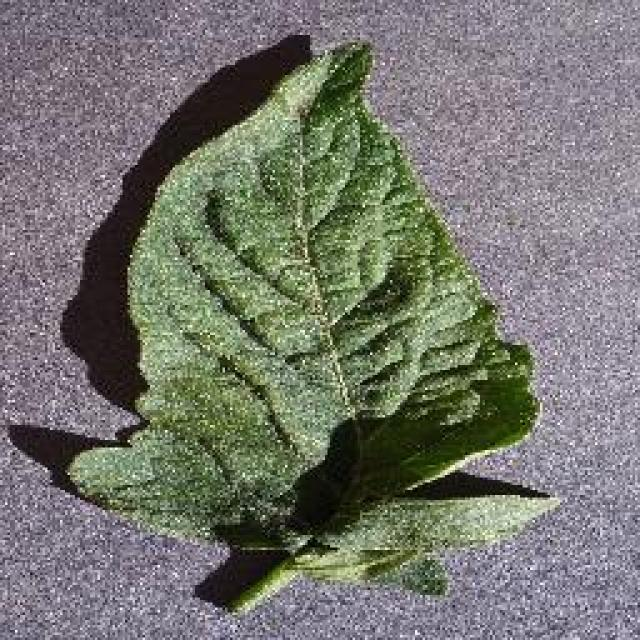Tomato_Healthy: (36, 30, 580, 568)
